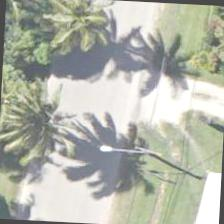Kelapa_Sawit: (0, 68, 85, 163), (21, 0, 115, 62)
